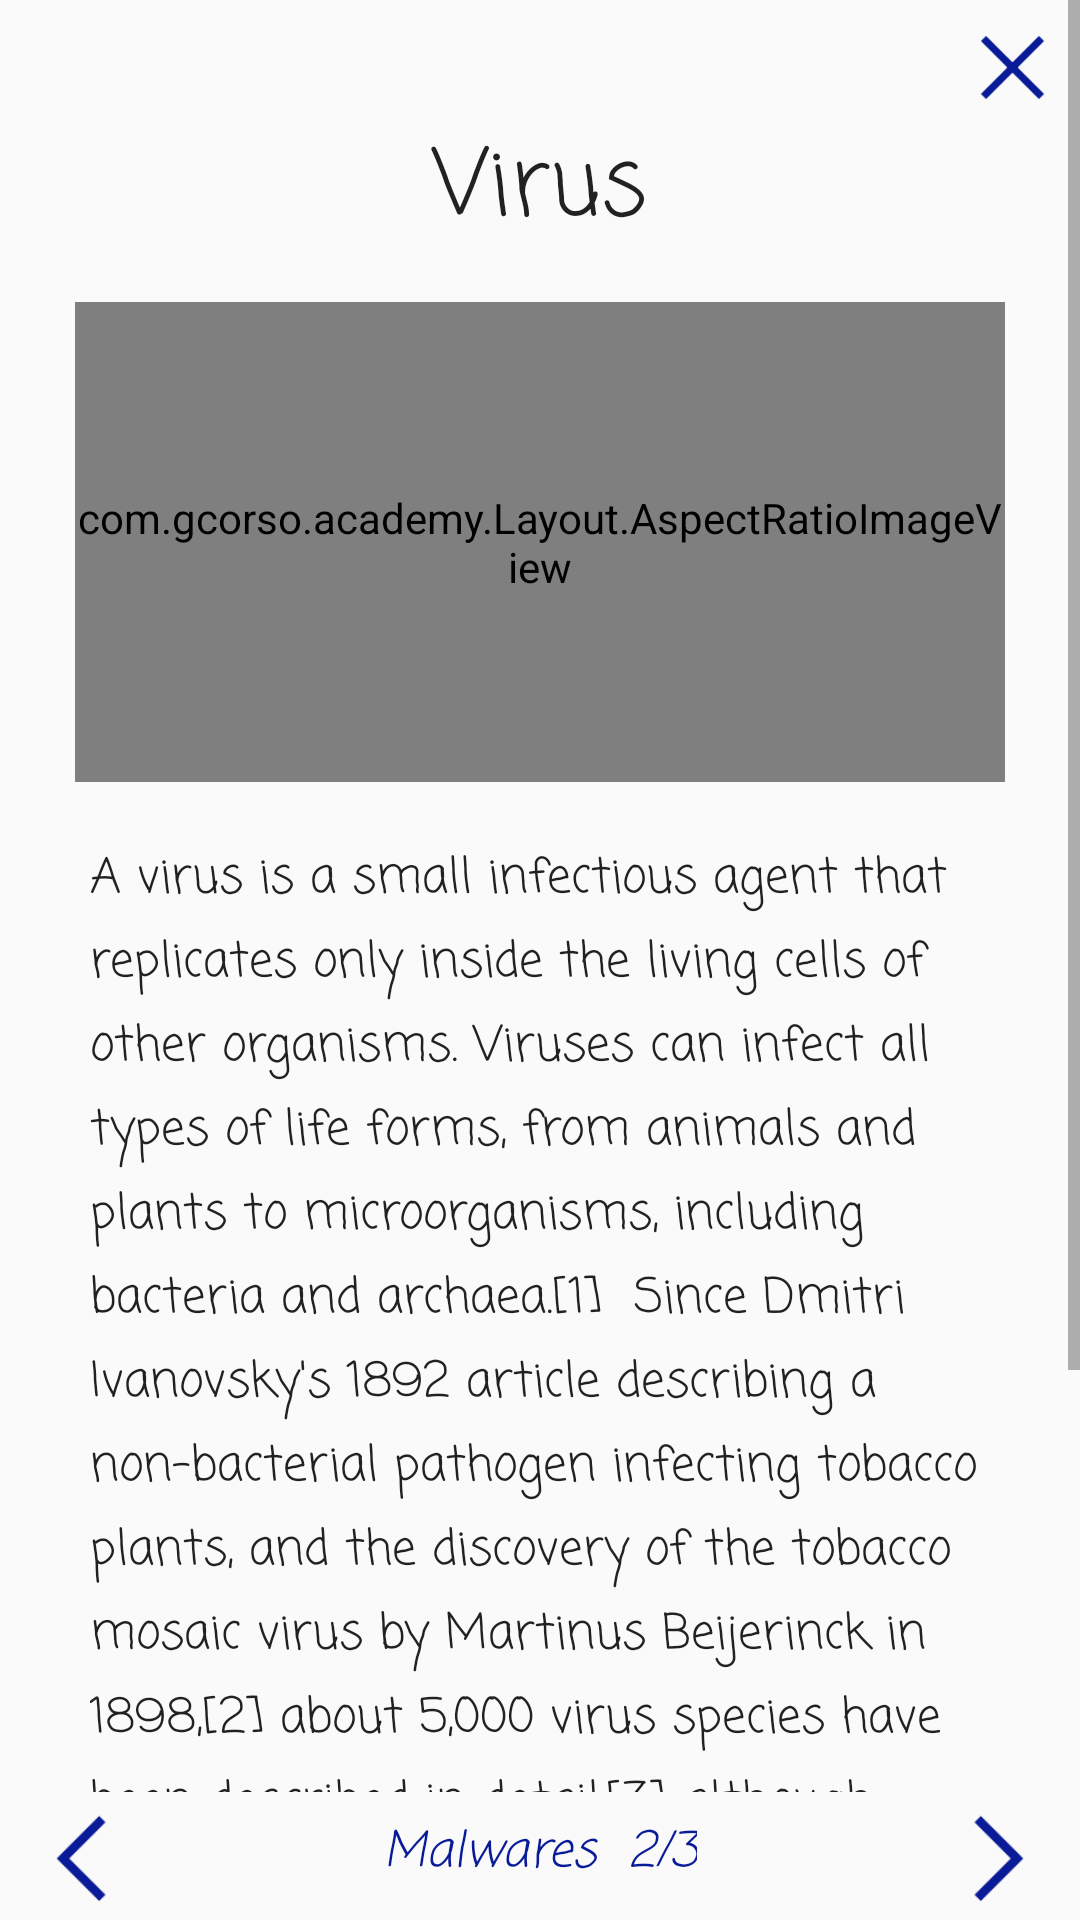

Screen size 1080 × 1920. Icon name, then its center in pixels as (x=x, y=y):
back: (x=81, y=1858)
next: (x=999, y=1858)
